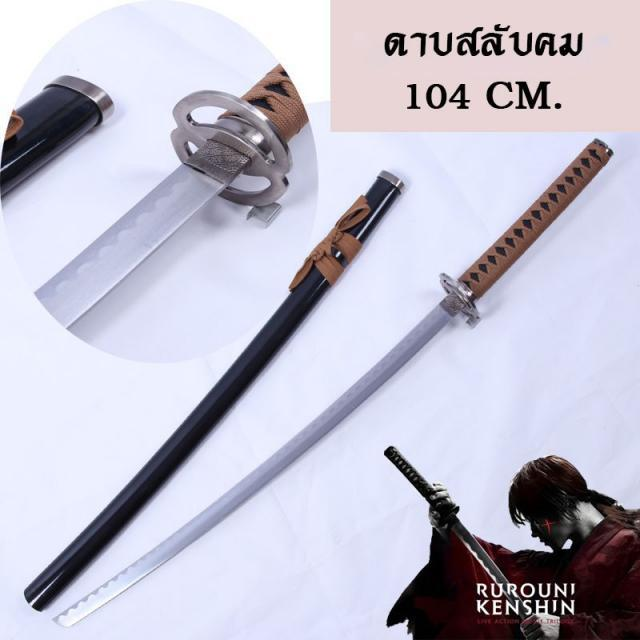long sword: (48, 134, 619, 632), (32, 63, 310, 330)
